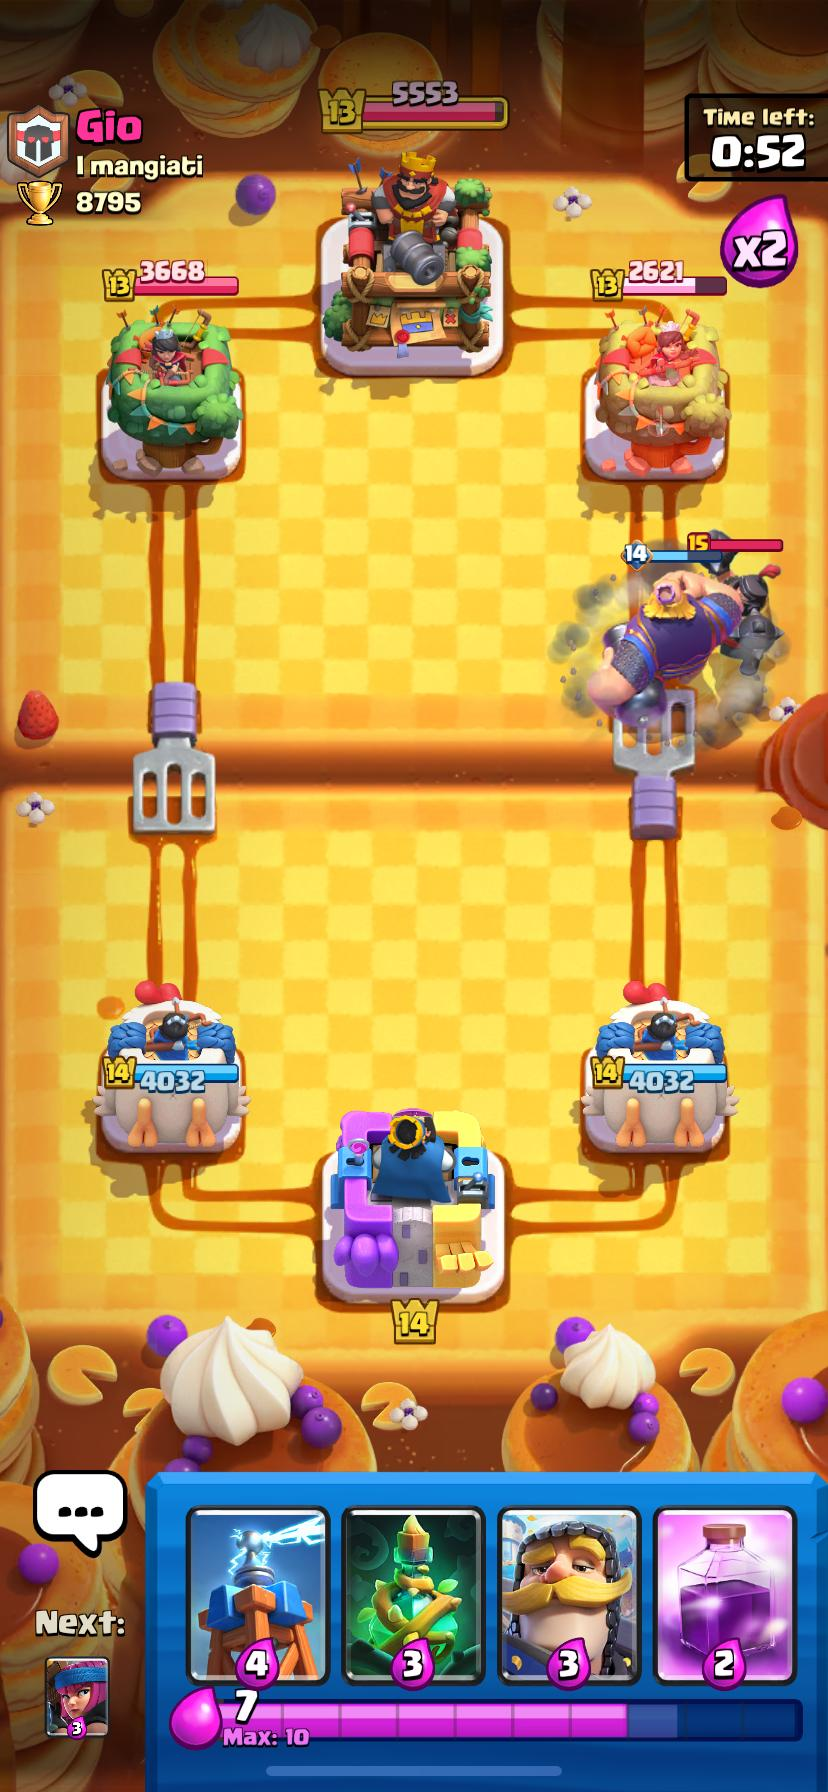EKingTower: (321, 150, 502, 375)
EMegaKnight: (709, 533, 783, 675)
EnemyPrincessTower: (586, 304, 730, 479), (108, 309, 242, 454)
OEVRoyalG: (588, 569, 745, 725)
OwnKingTower: (323, 1109, 503, 1304)
OwnPrincessTower: (581, 983, 737, 1154), (94, 983, 249, 1153)
